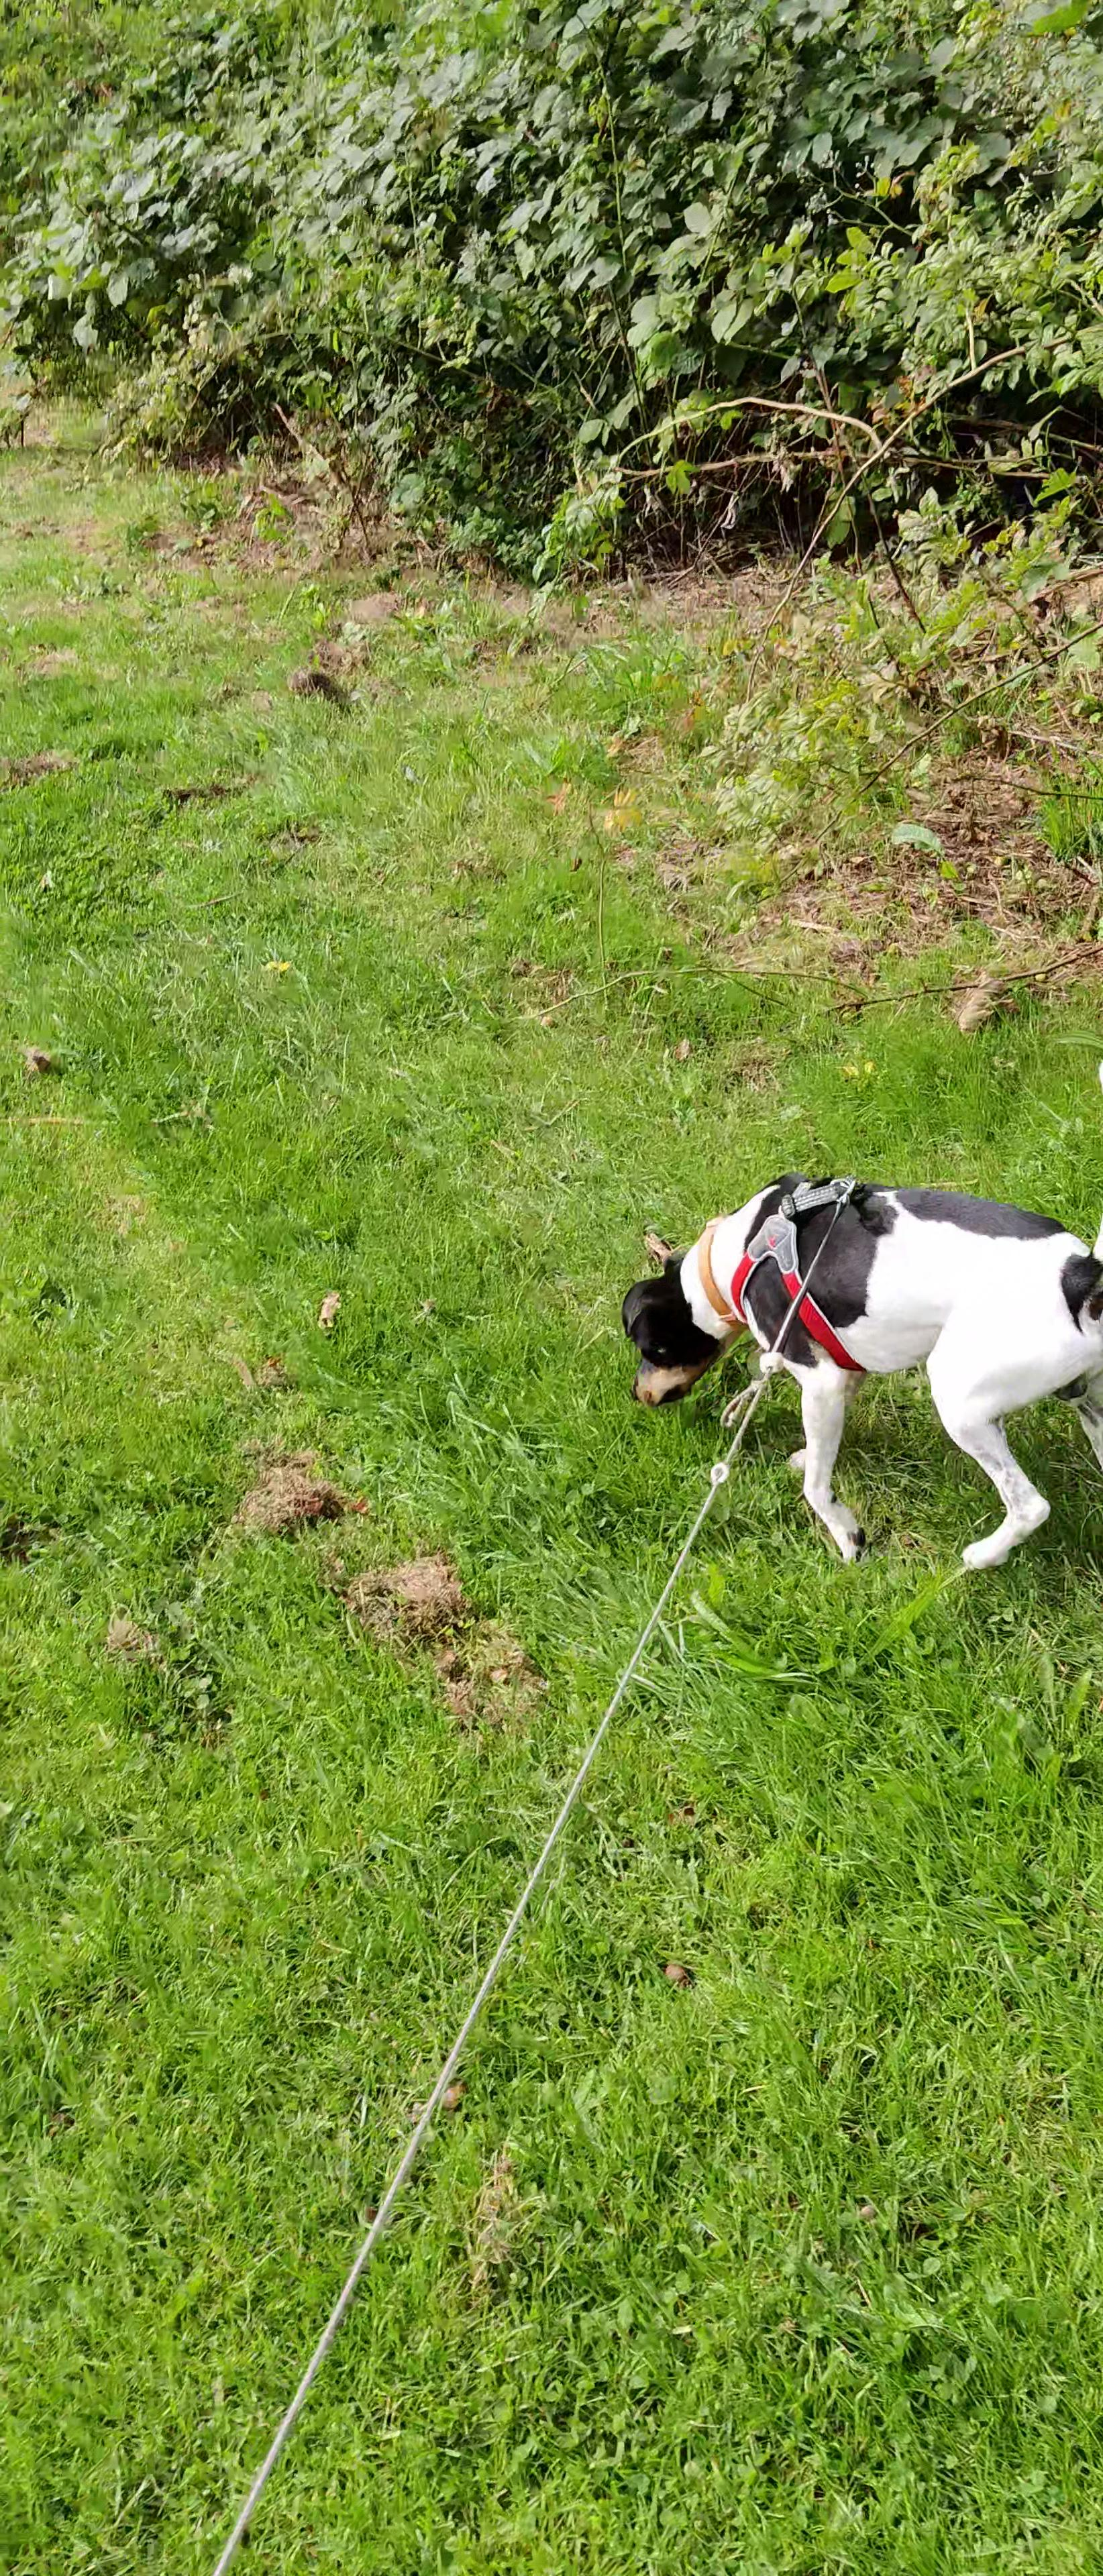Dog: (603, 1145, 1103, 1600)
